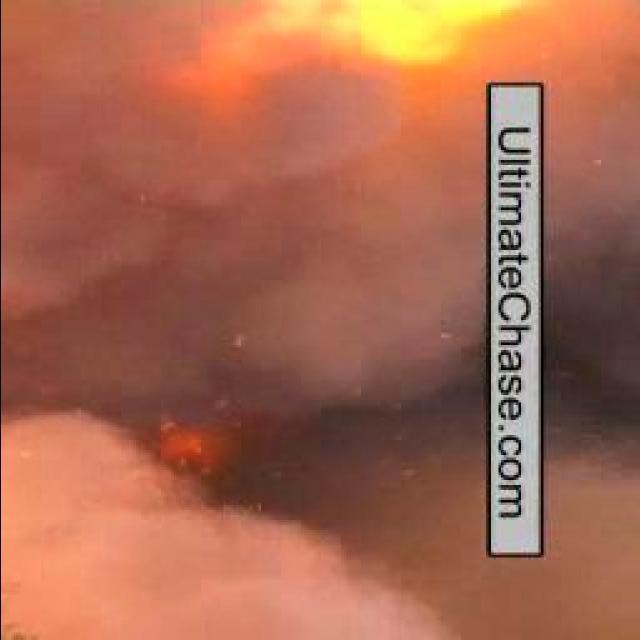Fire: (175, 0, 538, 108), (140, 423, 244, 488)
